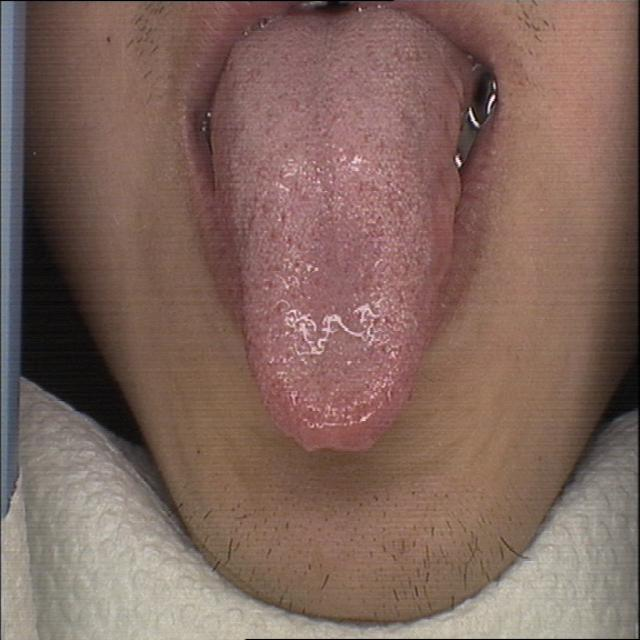tongue: (208, 16, 478, 458)
